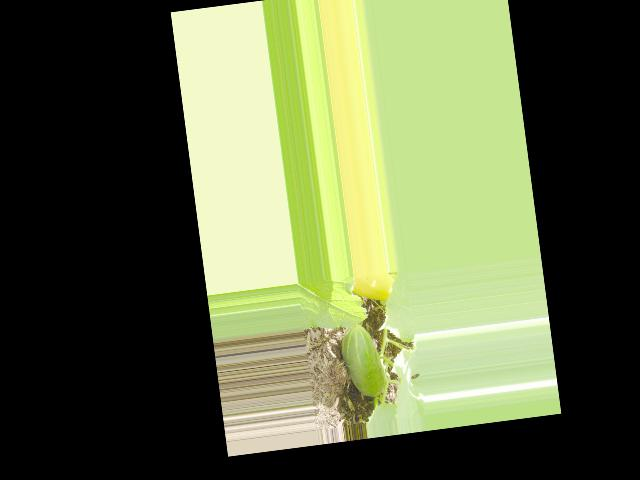cucumber: (337, 321, 387, 400)
